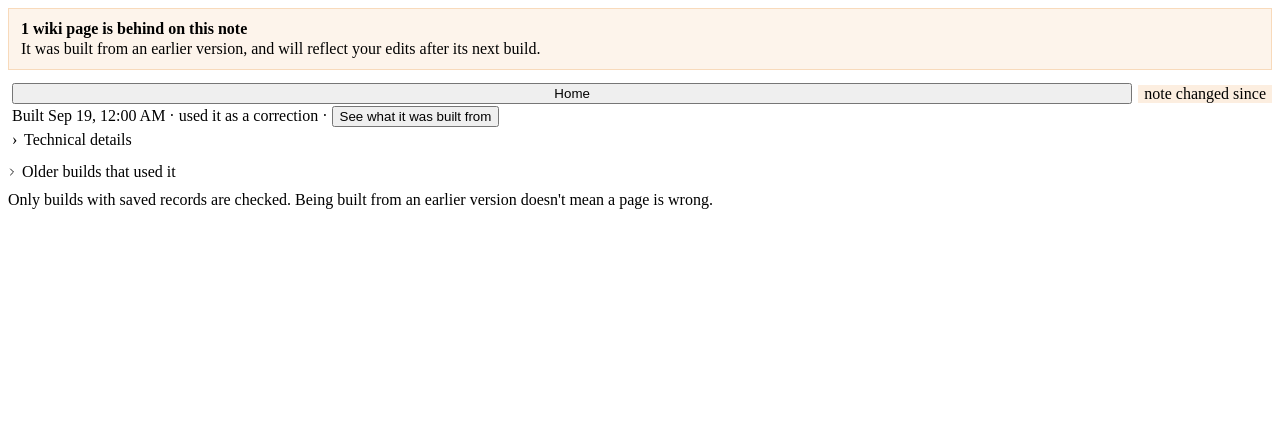
Test: summarizes why a note needs review and preserves exact audit data in technical details
The image size is (1280, 426).
Expected: the text "1 wiki page is behind on this note" is shown, 21,20 -> 247,37
Expected: the button "Home" is shown, 12,83 -> 1132,104
Step 1. Click the heading "Technical details" → {"x": 72, "y": 140}, box 12,131 -> 132,149
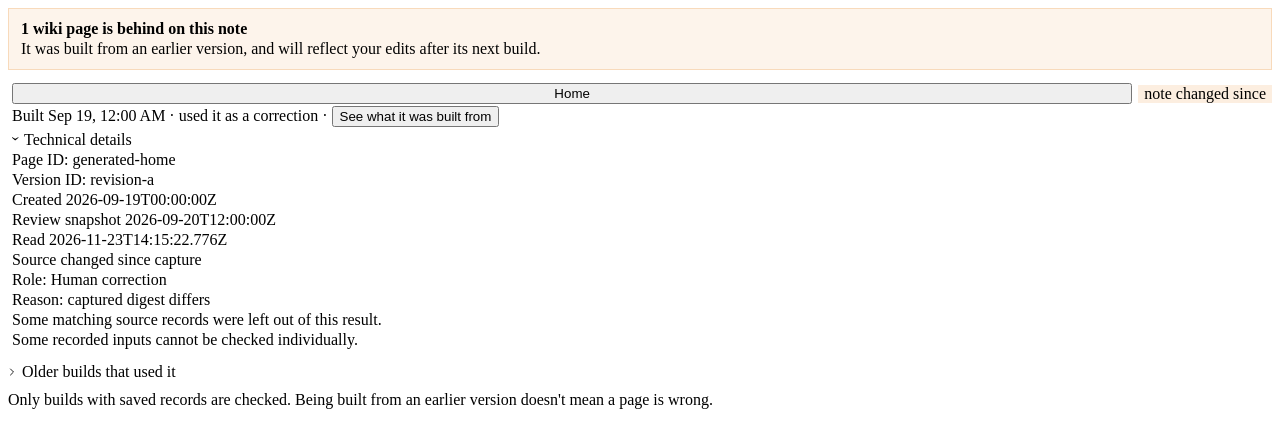
Result: the text "Version ID: revision-a" is shown at 12,171 -> 154,188
Result: the text "Created 2026-09-19T00:00:00Z" is shown at 12,191 -> 217,208
Result: the text "Review snapshot 2026-09-20T12:00:00Z" is shown at 12,211 -> 276,228
